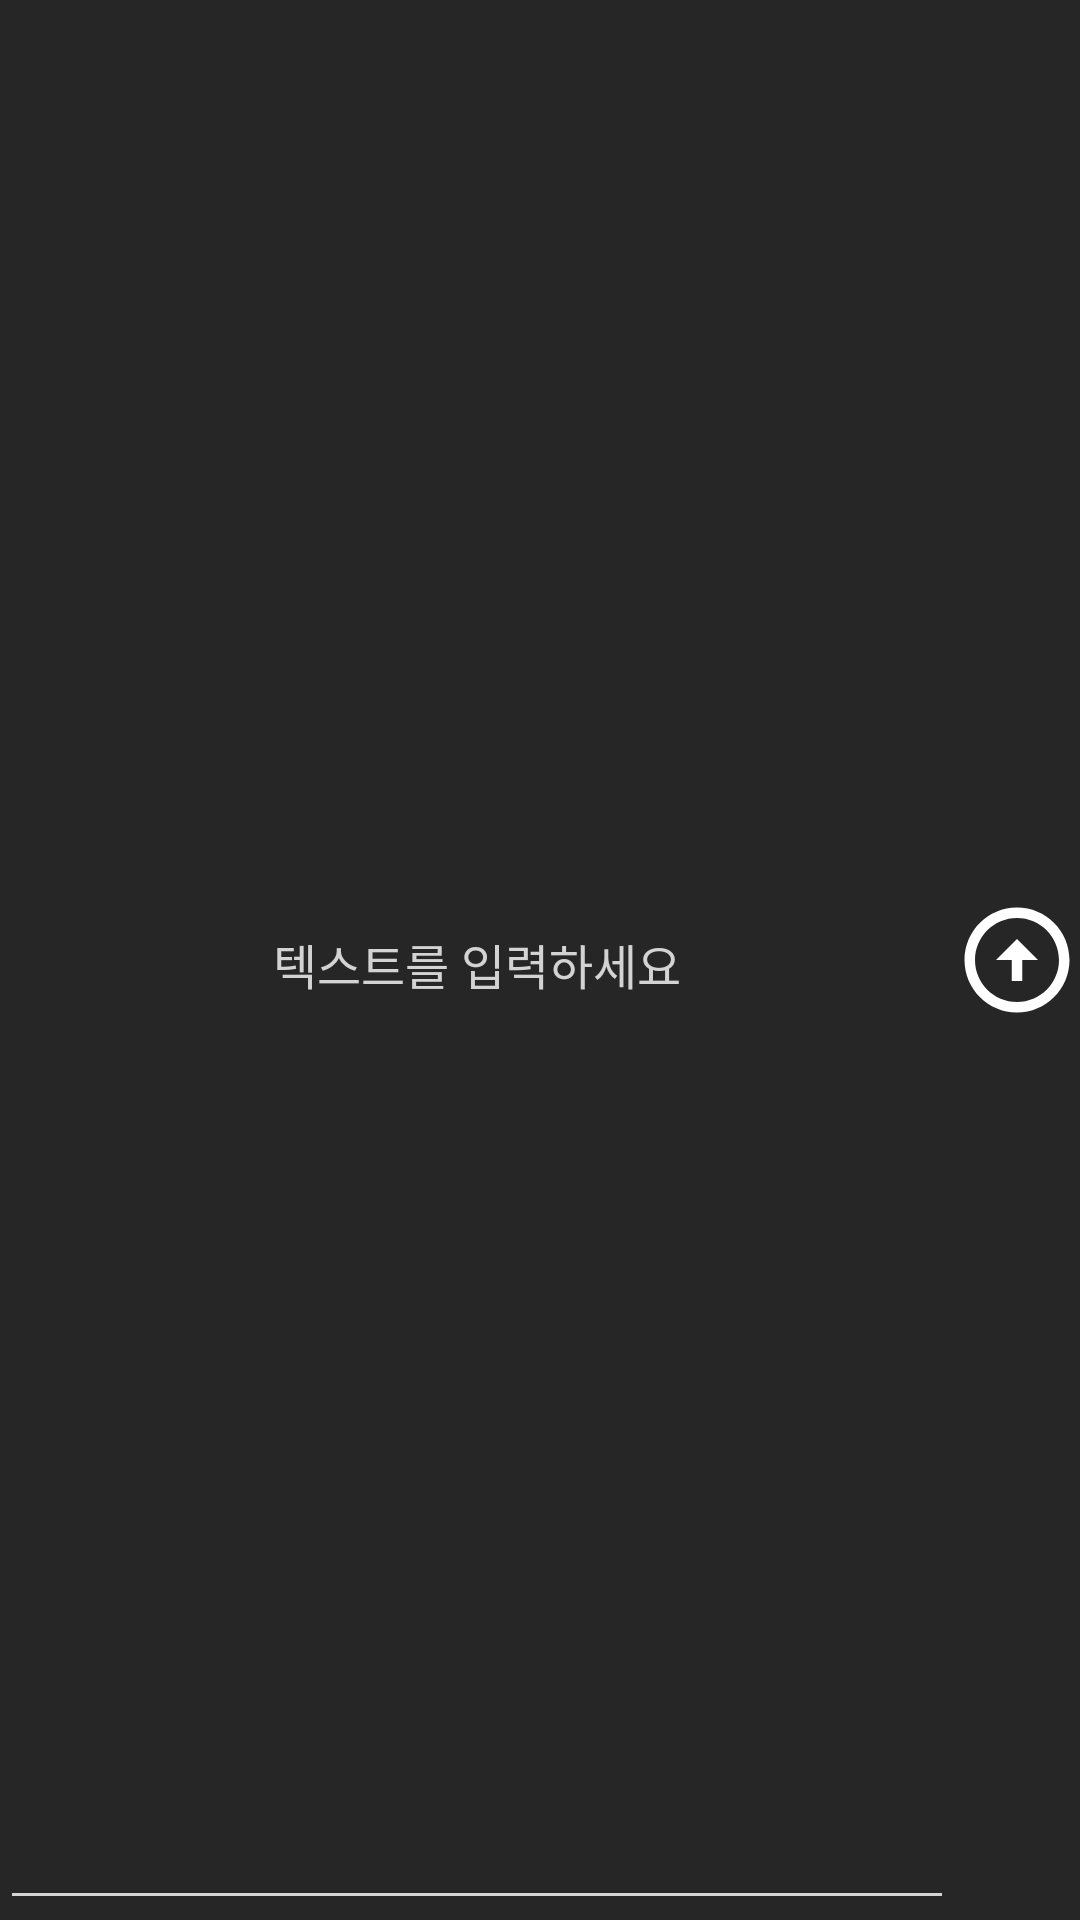

Icon click points for this 1080px x 1920px phone screenshot, format point (x, y):
arrow circle up: point (1017, 960)
